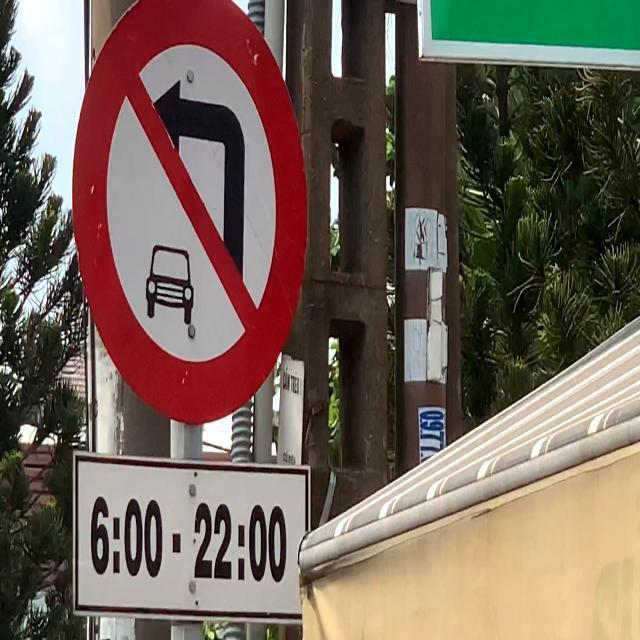123a-cam-re-trai: (71, 0, 310, 424)
